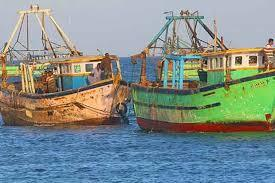fishing boat: (130, 7, 275, 136), (0, 1, 130, 128)
